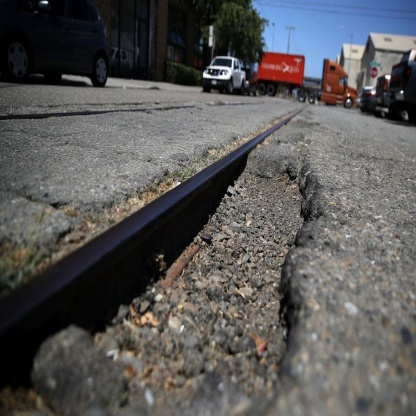pothole: (1, 143, 332, 409)
